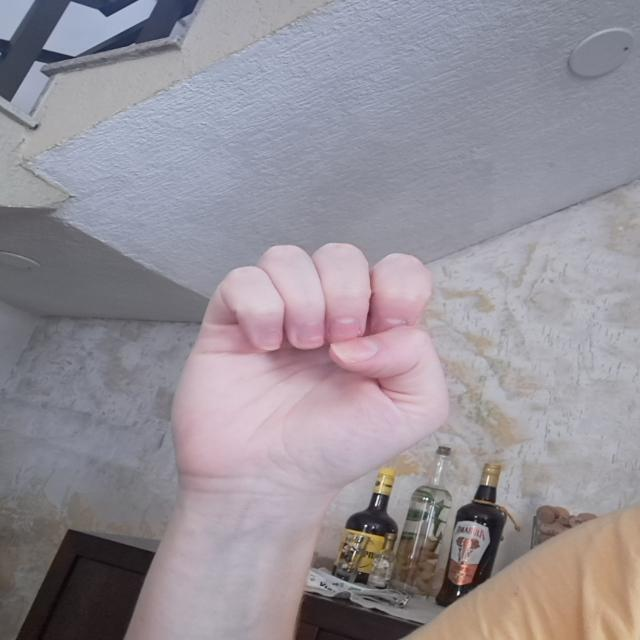E: (157, 231, 468, 502)
